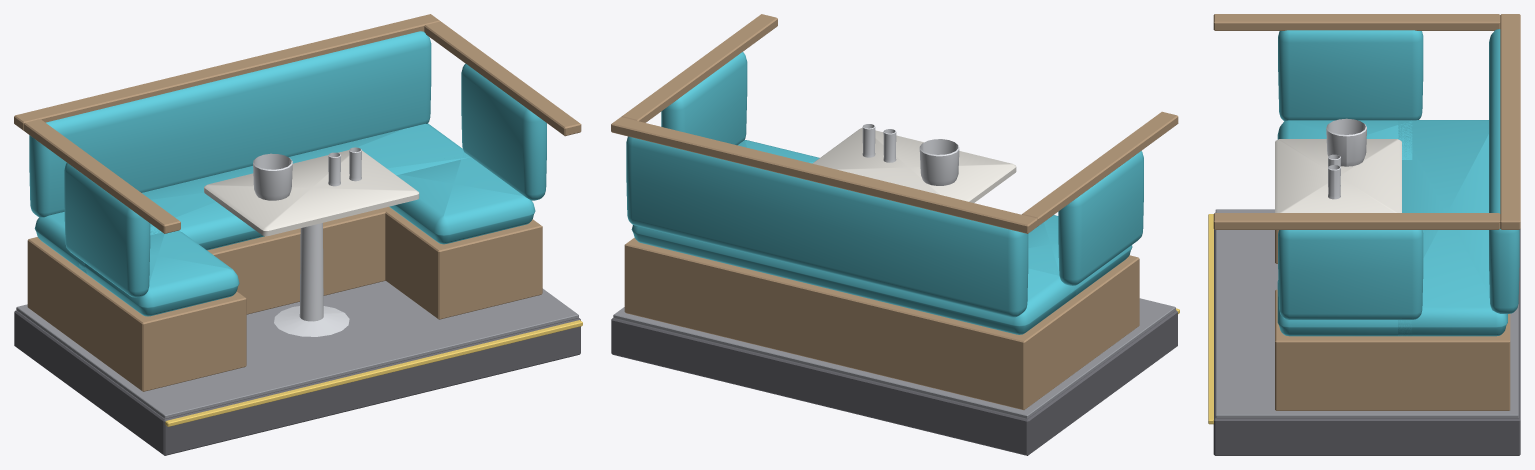
Rendered from nightclub-and-dj-booth-raised-seating-booth-cyan-10284551__34129.glb.
3 renders of one model, left to right at view 1: azimuth 30°, elevation 25°; view 2: azimuth 150°, elevation 25°; view 3: azimuth 270°, elevation 25°, orthographic.
Parts seen in each view (by area): view 1: raised-seating-booth-cyan; view 2: raised-seating-booth-cyan; view 3: raised-seating-booth-cyan.
Part boxes in pixels (x1,y1,x2,y2): raised-seating-booth-cyan: [14, 14, 582, 455]; raised-seating-booth-cyan: [611, 14, 1179, 455]; raised-seating-booth-cyan: [1208, 14, 1520, 455].
Size of the model in its own units: 2.41 by 1.27 by 1.53.
